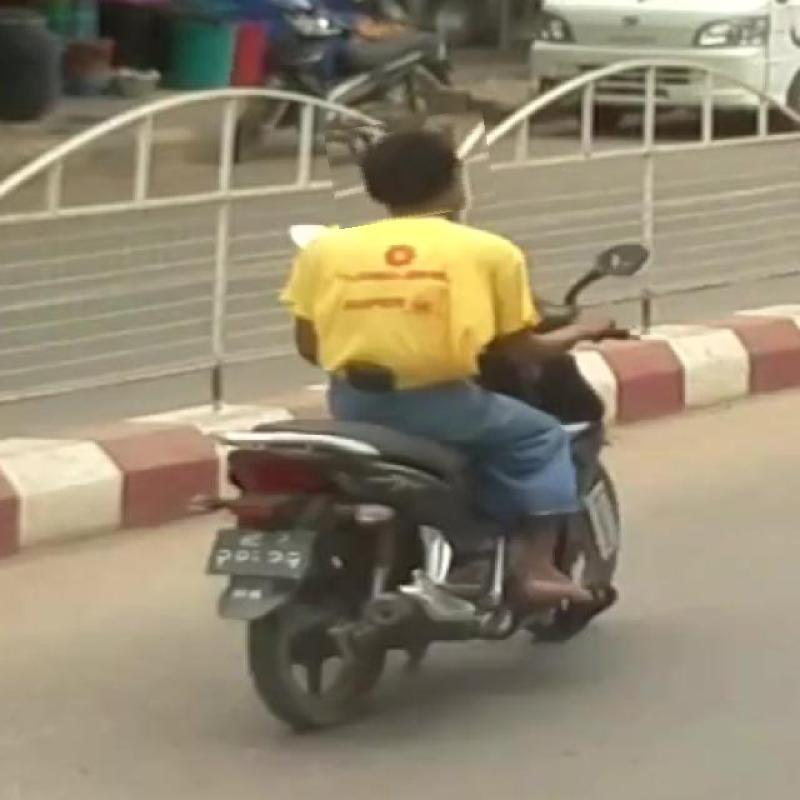nohelmet: (328, 114, 494, 224)
